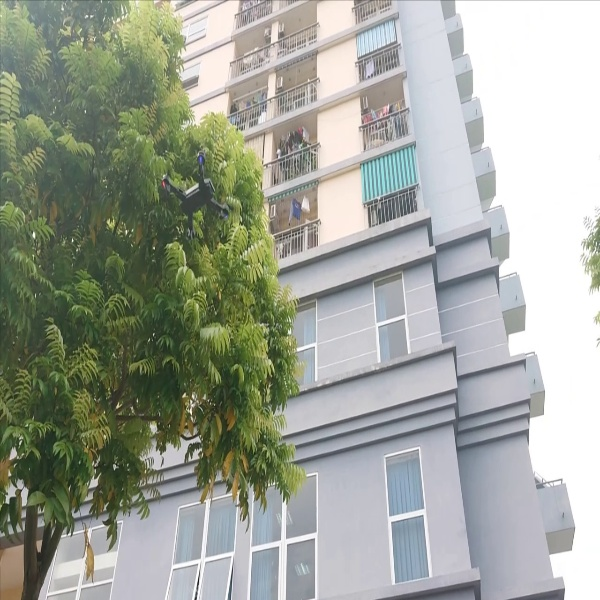drone: (149, 145, 234, 241)
